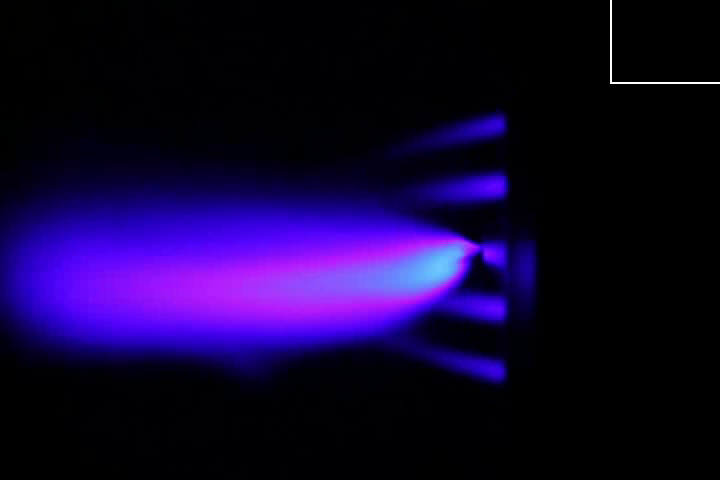burner cap: (477, 237, 511, 273)
pilot flame: (376, 102, 505, 162), (386, 340, 507, 386), (390, 173, 512, 210), (432, 294, 507, 322)
stable: (118, 219, 482, 313)
